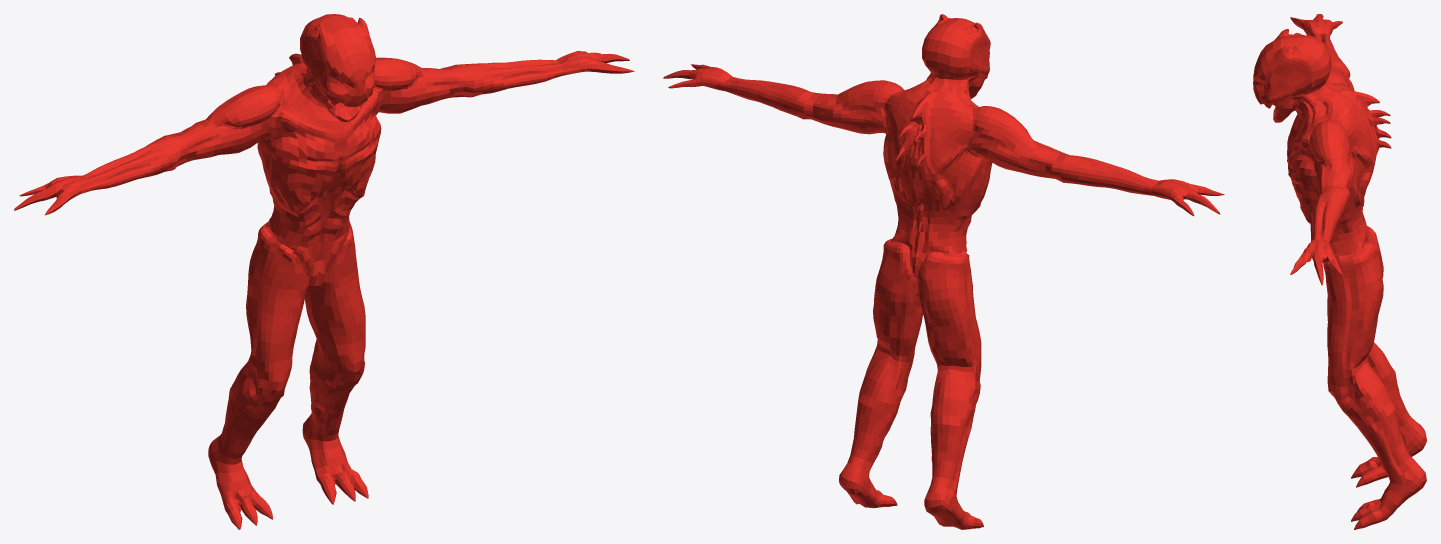
Rendered from EnemyLow.fbx.
3 views of the same model, side by side, from view 1: azimuth 30°, elevation 25°; view 2: azimuth 150°, elevation 25°; view 3: azimuth 270°, elevation 25° (orthographic). The views are drawn at different scales.
Visible parts, largest first — view 1: LP finish; view 2: LP finish; view 3: LP finish.
Boxes of the visible parts, x1,y1,x2,y2 form: LP finish: [14, 14, 634, 529]; LP finish: [663, 14, 1224, 529]; LP finish: [1253, 14, 1426, 529].
Bounding box in the file's own units: 1026 × 827 × 280.
